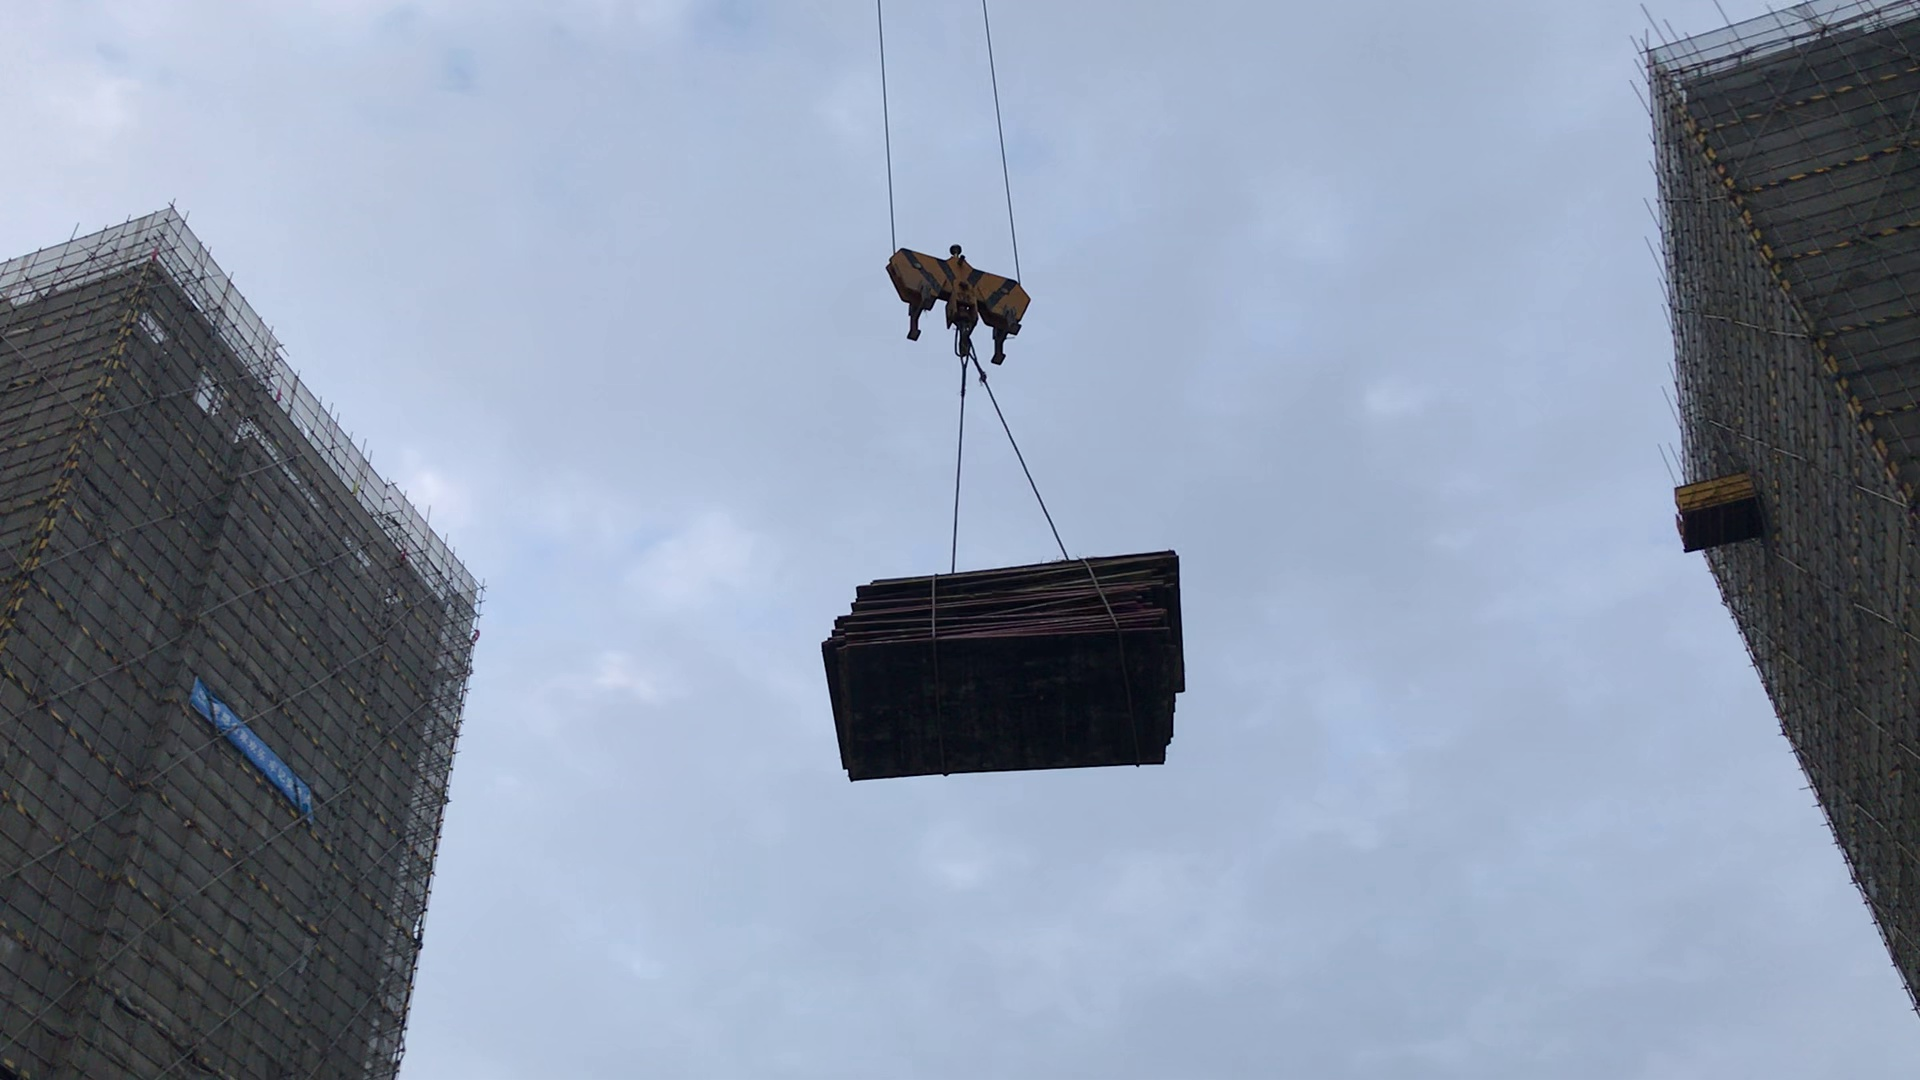board: (820, 551, 1195, 787)
hook: (880, 243, 1033, 363)
slogan: (196, 676, 320, 823)
